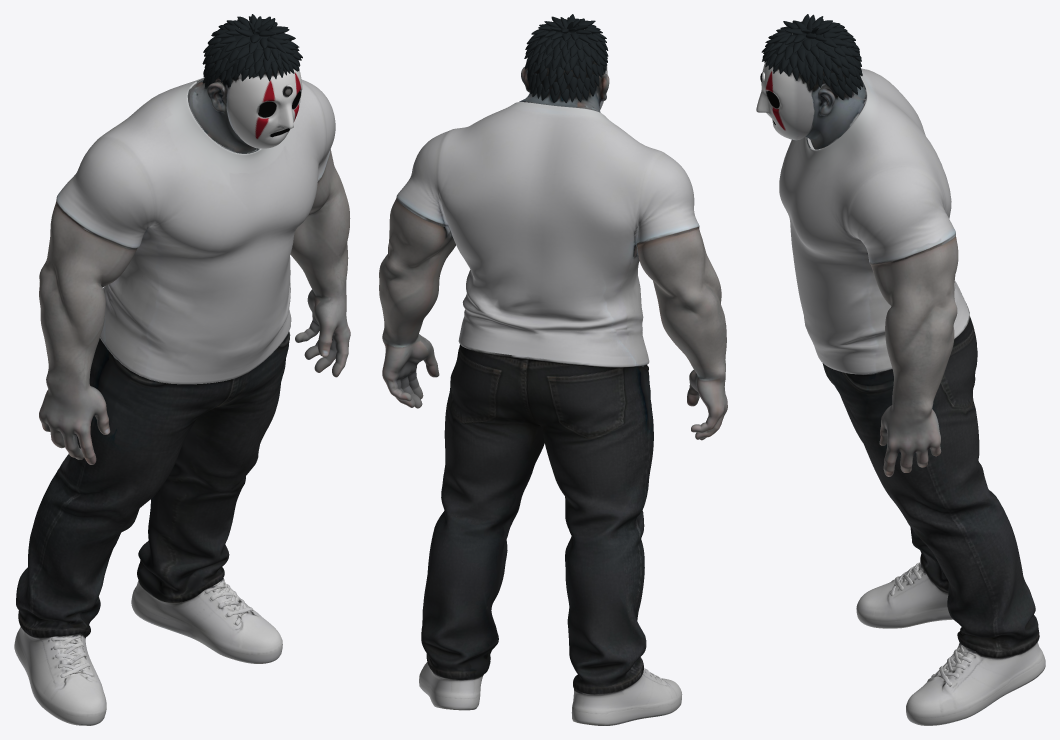
Rendered from sobaya_refined_final.glb.
3 renders of one model, left to right at view 1: azimuth 30°, elevation 25°; view 2: azimuth 150°, elevation 25°; view 3: azimuth 270°, elevation 25°, orthographic. The views are drawn at different scales.
Visible parts, largest first — view 1: tripo_node_4861cc5b; view 2: tripo_node_4861cc5b; view 3: tripo_node_4861cc5b.
Boxes of the visible parts, box(x1,y1,x2,y2) form: tripo_node_4861cc5b: box(14, 14, 350, 725); tripo_node_4861cc5b: box(379, 14, 727, 725); tripo_node_4861cc5b: box(756, 14, 1045, 725).
Size of the model in its own units: 0.9112 by 1.79 by 0.7045.
Materials: 3 (1 with a texture image).
